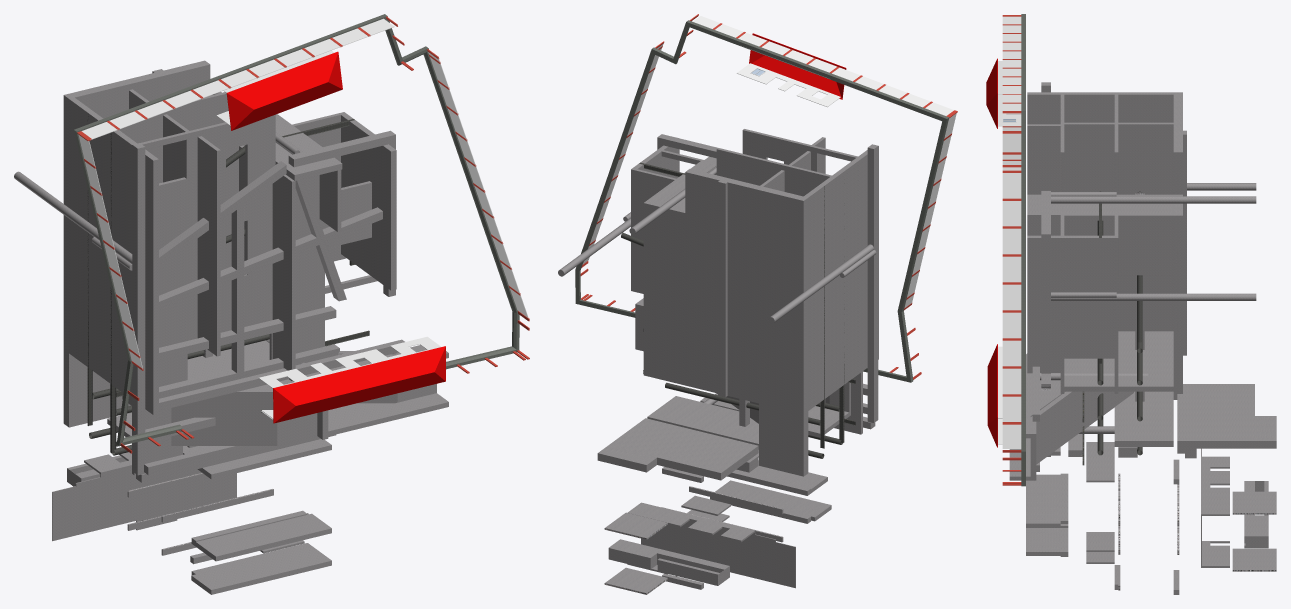
3 views of the same model, side by side, from view 1: azimuth 30°, elevation 25°; view 2: azimuth 150°, elevation 25°; view 3: azimuth 270°, elevation 25° (orthographic). The views are drawn at different scales.
Parts seen in each view (by area): view 1: 0_3_1_2; view 2: 0_3_1_2; view 3: 0_3_1_2.
Boxes of the visible parts, x1,y1,x2,y2 form: 0_3_1_2: (14, 14, 529, 594); 0_3_1_2: (558, 14, 957, 594); 0_3_1_2: (986, 14, 1276, 594).
Bounding box in the file's own units: 47.35 × 59.89 × 30.92.
118 materials, 104 textured.
